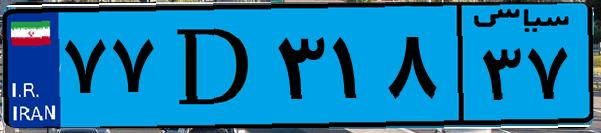1: (330, 28, 385, 110)
3: (270, 28, 330, 110), (475, 38, 525, 113)
7: (57, 26, 110, 100), (525, 38, 570, 115), (110, 28, 158, 98)
8: (385, 28, 445, 110)
D: (158, 12, 270, 120)
